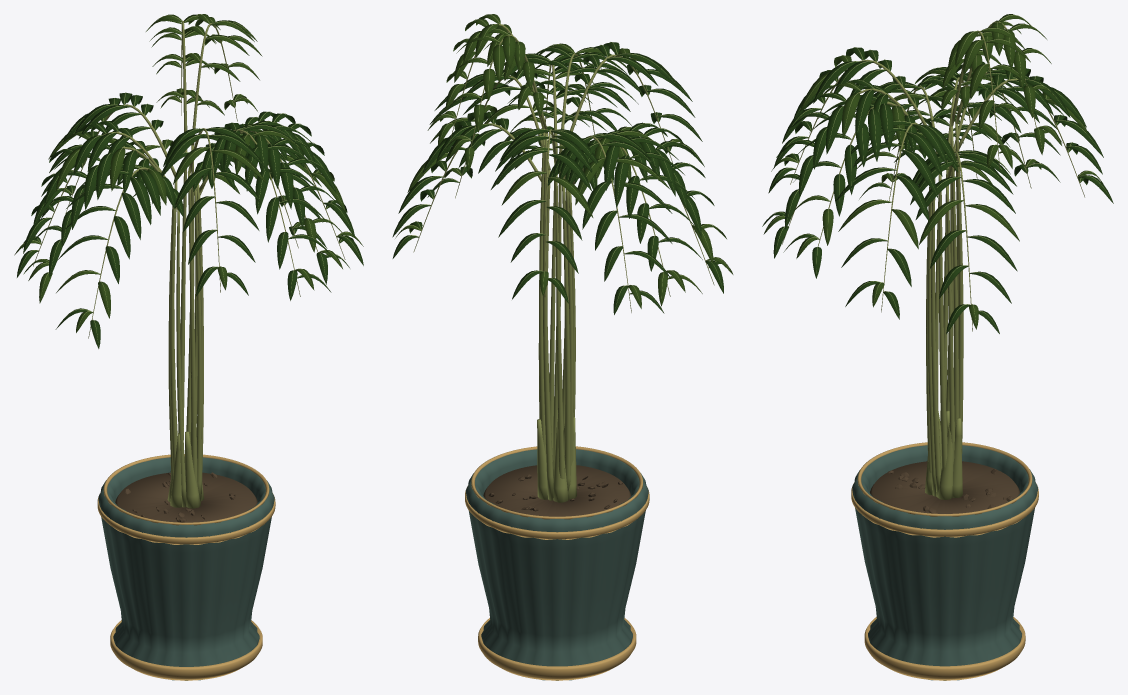
File: casino-planter.glb
The picture shows the model from 3 angles, left to right: view 1: azimuth 30°, elevation 25°; view 2: azimuth 150°, elevation 25°; view 3: azimuth 270°, elevation 25°; orthographic projection. The views are drawn at different scales.
Parts seen in each view (by area): view 1: 01 Deep green glazed ceramic, 05 Mature green palm blade, 04 Fibrous olive palm stems, 06 Younger olive green blade, 02 Aged brushed brass bands, 03 Earth and mineral drainage, 07 Raised leaf midrib; view 2: 01 Deep green glazed ceramic, 05 Mature green palm blade, 04 Fibrous olive palm stems, 06 Younger olive green blade, 02 Aged brushed brass bands, 07 Raised leaf midrib, 03 Earth and mineral drainage; view 3: 01 Deep green glazed ceramic, 05 Mature green palm blade, 04 Fibrous olive palm stems, 06 Younger olive green blade, 02 Aged brushed brass bands, 03 Earth and mineral drainage, 07 Raised leaf midrib.
Boxes of the visible parts, x1=… form: 01 Deep green glazed ceramic: x1=98, y1=457, x2=274, y2=680; 05 Mature green palm blade: x1=17, y1=92, x2=363, y2=348; 04 Fibrous olive palm stems: x1=33, y1=20, x2=345, y2=508; 06 Younger olive green blade: x1=14, y1=14, x2=363, y2=332; 02 Aged brushed brass bands: x1=97, y1=454, x2=275, y2=680; 03 Earth and mineral drainage: x1=115, y1=471, x2=257, y2=522; 07 Raised leaf midrib: x1=18, y1=14, x2=360, y2=345; 01 Deep green glazed ceramic: x1=466, y1=449, x2=648, y2=680; 05 Mature green palm blade: x1=392, y1=42, x2=732, y2=314; 04 Fibrous olive palm stems: x1=413, y1=23, x2=714, y2=502; 06 Younger olive green blade: x1=395, y1=14, x2=733, y2=308; 02 Aged brushed brass bands: x1=465, y1=446, x2=649, y2=680; 07 Raised leaf midrib: x1=394, y1=14, x2=729, y2=310; 03 Earth and mineral drainage: x1=483, y1=465, x2=630, y2=516; 01 Deep green glazed ceramic: x1=852, y1=445, x2=1037, y2=680; 05 Mature green palm blade: x1=762, y1=47, x2=1113, y2=334; 04 Fibrous olive palm stems: x1=782, y1=21, x2=1084, y2=499; 06 Younger olive green blade: x1=763, y1=14, x2=1103, y2=329; 02 Aged brushed brass bands: x1=851, y1=442, x2=1038, y2=680; 03 Earth and mineral drainage: x1=870, y1=461, x2=1019, y2=513; 07 Raised leaf midrib: x1=766, y1=14, x2=1108, y2=331.
Bounding box in the file's own units: 1.17 × 2.35 × 1.15.
7 materials, 2 textured.
